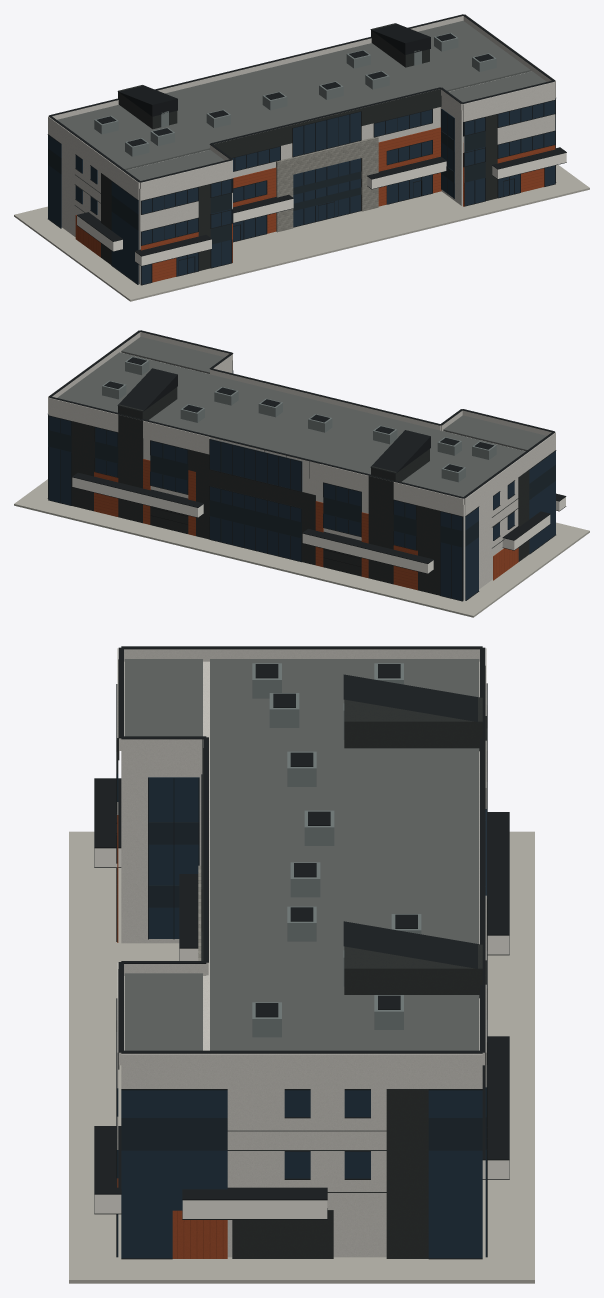
File: recplace-exterior.glb
3 views of the same model, one above another, from view 1: azimuth 30°, elevation 25°; view 2: azimuth 150°, elevation 25°; view 3: azimuth 270°, elevation 25° (orthographic). The views are drawn at different scales.
Visible parts, largest first — view 1: roof_roof, context_walk, floor_03_ice, floor_01_glass, floor_03_glass, floor_02_glass, roof_frame, floor_03_emu, floor_02_frame, floor_01_canopy, roof_rtu, floor_02_ice (+16 smaller); view 2: roof_roof, context_walk, floor_03_ice, roof_frame, floor_03_glass, floor_02_emu, floor_02_glass, floor_01_glass, floor_01_emu, floor_03_emu, roof_ice, floor_02_frame (+13 smaller); view 3: roof_roof, context_walk, floor_03_ice, roof_frame, floor_02_frame, roof_emu, floor_02_glass, floor_02_ice, floor_01_glass, floor_03_glass, floor_01_emu, roof_rtu (+10 smaller).
Boxes of the visible parts, <box> form: roof_roof: <box>57,21,546,180</box>; context_walk: <box>14,165,589,301</box>; floor_03_ice: <box>48,16,555,220</box>; floor_01_glass: <box>48,162,555,284</box>; floor_03_glass: <box>48,98,555,214</box>; floor_02_glass: <box>48,127,555,250</box>; roof_frame: <box>48,14,555,182</box>; floor_03_emu: <box>101,89,497,206</box>; floor_02_frame: <box>75,127,566,256</box>; floor_01_canopy: <box>77,153,566,265</box>; roof_rtu: <box>94,33,496,156</box>; floor_02_ice: <box>61,120,555,249</box>; roof_roof: <box>57,337,546,496</box>; context_walk: <box>14,479,589,617</box>; floor_03_ice: <box>48,332,555,535</box>; roof_frame: <box>48,330,555,498</box>; floor_03_glass: <box>48,371,555,530</box>; floor_02_emu: <box>71,441,531,561</box>; floor_02_glass: <box>48,445,555,567</box>; floor_01_glass: <box>48,466,555,600</box>; floor_01_emu: <box>71,472,529,595</box>; floor_03_emu: <box>71,360,529,531</box>; roof_ice: <box>48,332,551,504</box>; floor_02_frame: <box>48,446,566,567</box>; roof_roof: <box>124,659,479,1050</box>; context_walk: <box>69,831,534,1283</box>; floor_03_ice: <box>117,648,486,1128</box>; roof_frame: <box>118,646,485,1053</box>; floor_02_frame: <box>94,778,509,1200</box>; roof_emu: <box>344,697,482,998</box>; floor_02_glass: <box>117,814,486,1191</box>; floor_02_ice: <box>117,814,386,1189</box>; floor_01_glass: <box>117,876,486,1258</box>; floor_03_glass: <box>117,773,486,1117</box>; floor_01_emu: <box>232,1191,428,1258</box>; roof_rtu: <box>252,663,421,1037</box>.
Size of the model in its own units: 60.86 by 15.75 by 26.73.
Materials: 11 (4 with a texture image).
